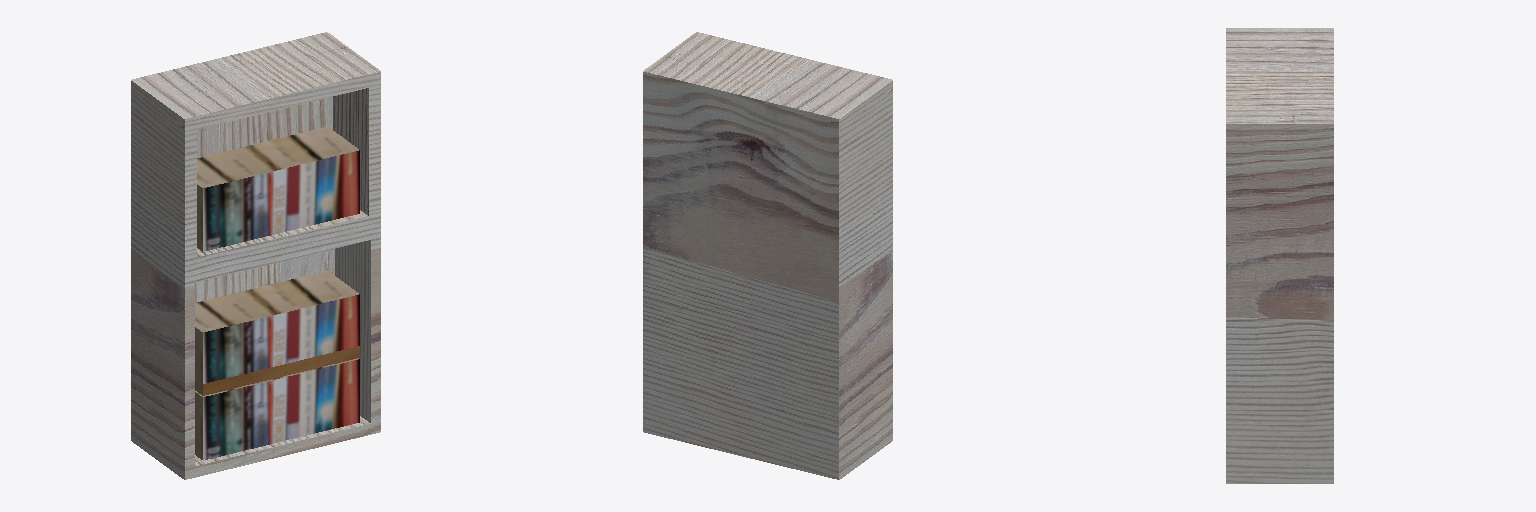
The picture shows the model from 3 angles: view 1: azimuth 30°, elevation 25°; view 2: azimuth 150°, elevation 25°; view 3: azimuth 270°, elevation 25°; orthographic projection.
Parts seen in each view (by area): view 1: Cube.010_Cube.011; view 2: Cube.010_Cube.011; view 3: Cube.010_Cube.011.
Part boxes in pixels (x1,y1,x2,y2): Cube.010_Cube.011: (131,32,380,479); Cube.010_Cube.011: (643,32,892,479); Cube.010_Cube.011: (1226,28,1333,483).
Size of the model in its own units: 2.12 by 3.71 by 1.01.
Materials: 2 (2 with a texture image).